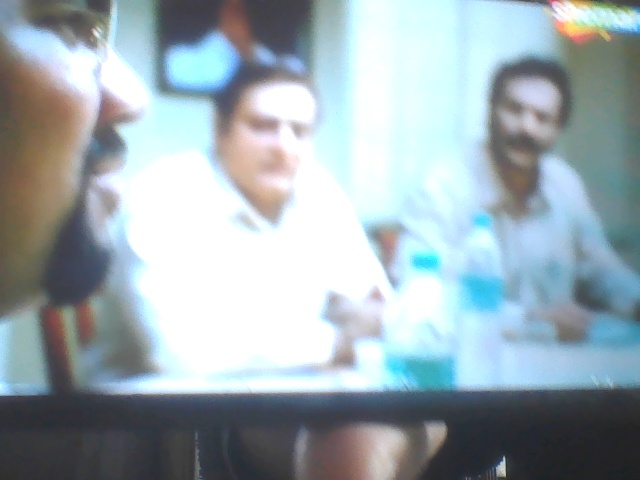fake: (215, 43, 333, 211)
